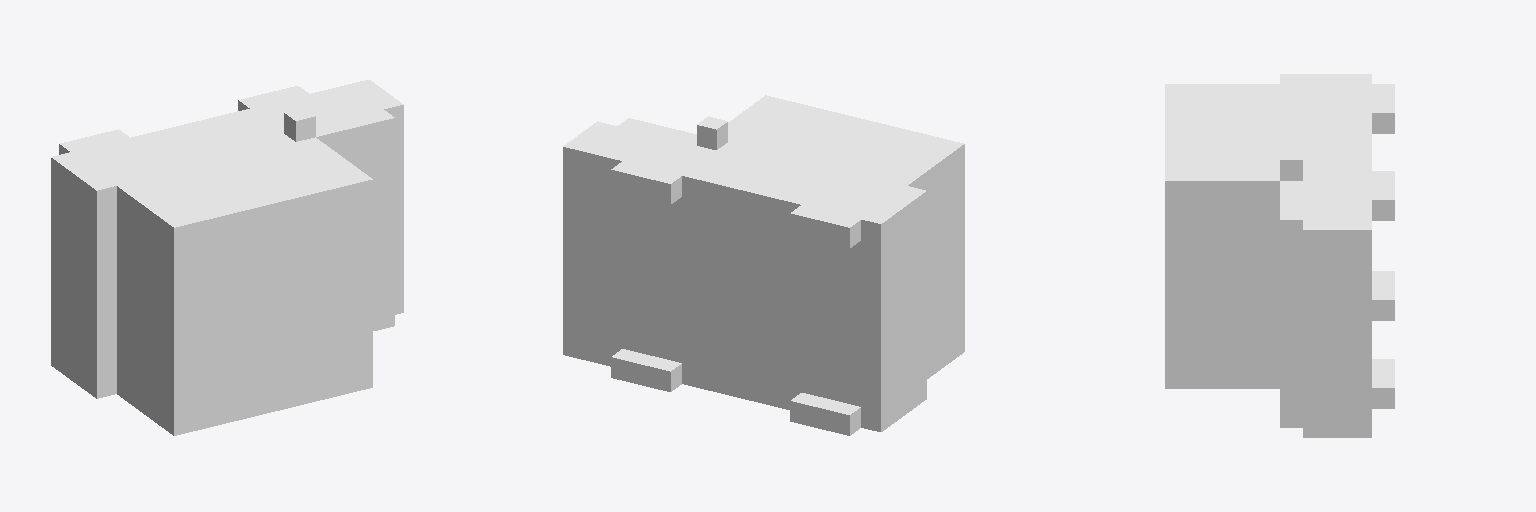
File: car_1.obj
3 views of the same model, side by side, from view 1: azimuth 30°, elevation 25°; view 2: azimuth 150°, elevation 25°; view 3: azimuth 270°, elevation 25° (orthographic).
Visible parts, largest first — view 1: car_1; view 2: car_1; view 3: car_1.
Part boxes in pixels (bbox=[...]): car_1: bbox=[51, 80, 403, 435]; car_1: bbox=[563, 95, 964, 435]; car_1: bbox=[1165, 74, 1394, 437].
Bounding box in the file's own units: 16 × 12 × 10.